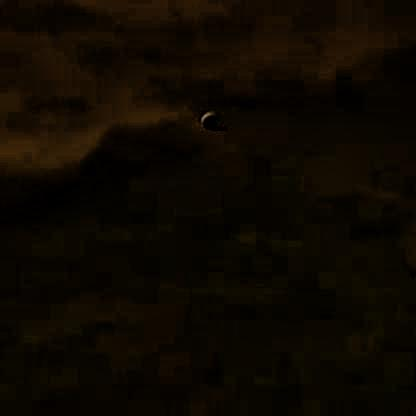golfball: (198, 109, 216, 127)
